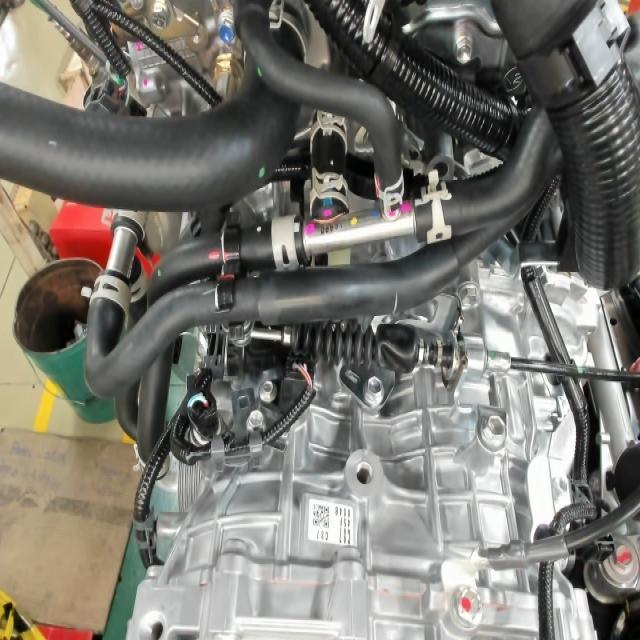Transaxele-C87-A27: (312, 522, 354, 549)
